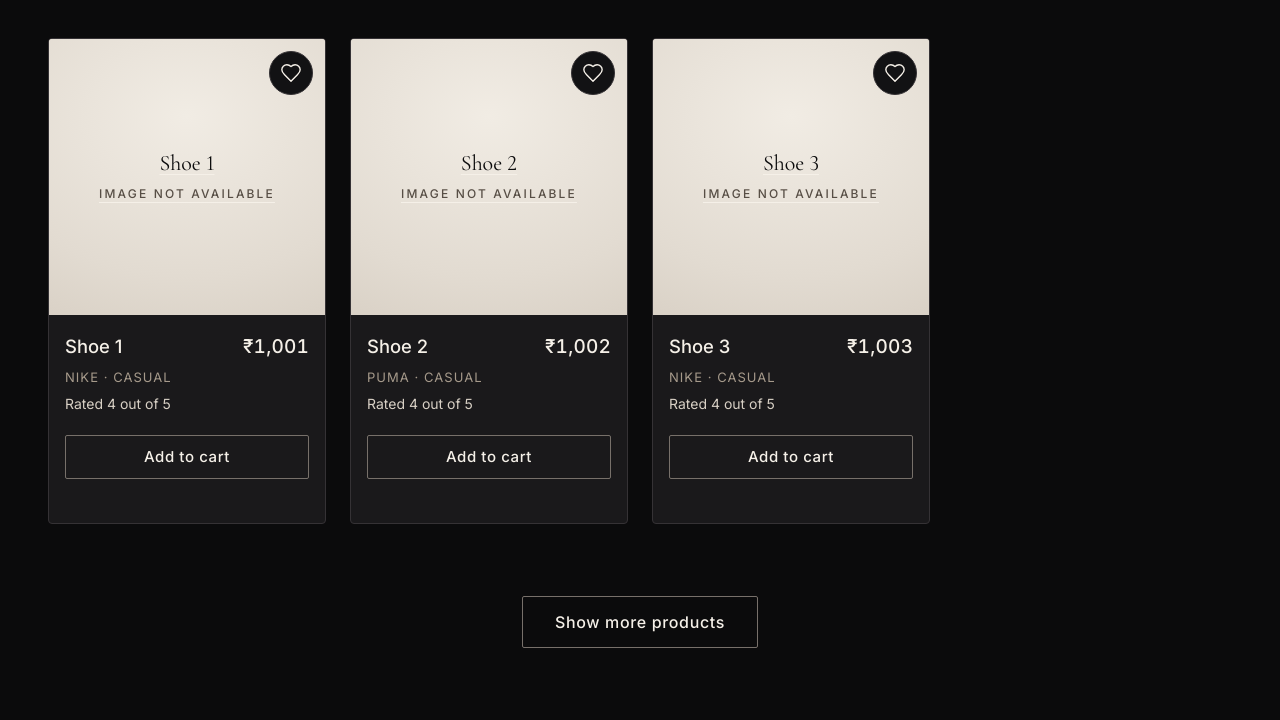
Test case: a category shows its first page; Show more adds the next one and moves focus to the first new product
The image size is (1280, 720).
(page scrolled)
Click the button "Show more products": [640, 622] box [522,596,758,648]
(page scrolled)
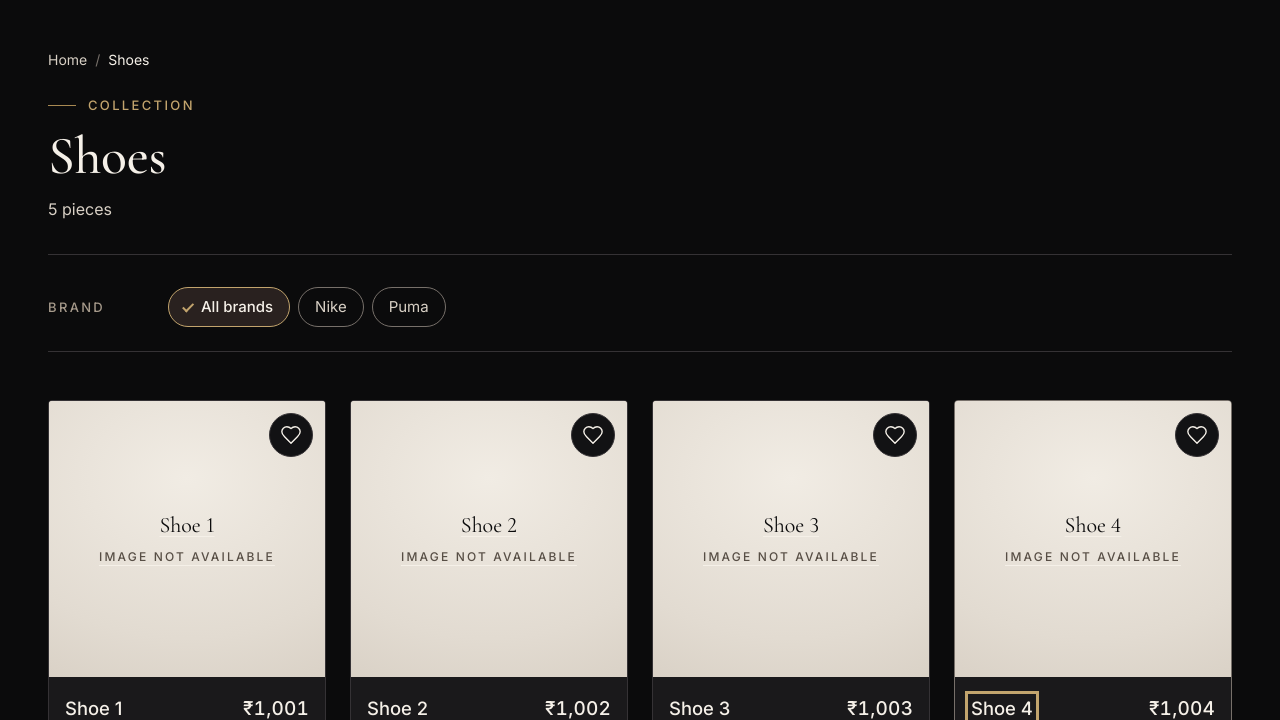
Expected: the button "Show more products" is gone
Expected: the text "5 pieces" is shown, [48,199,112,219]
